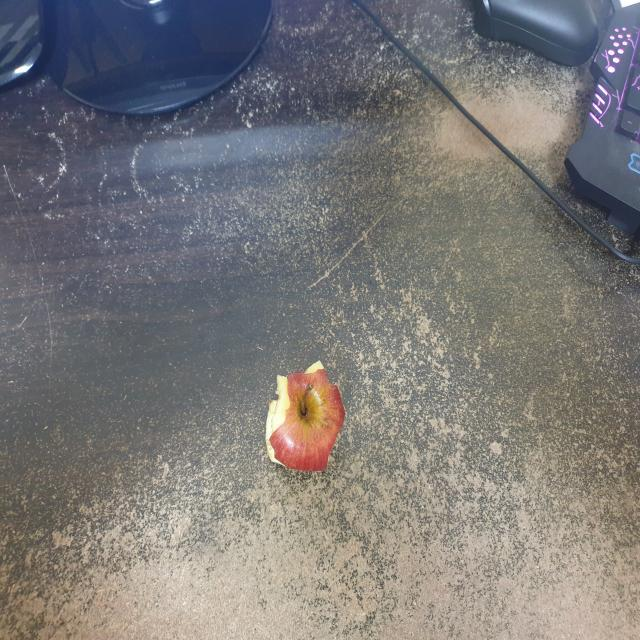apple: (244, 348, 354, 482)
